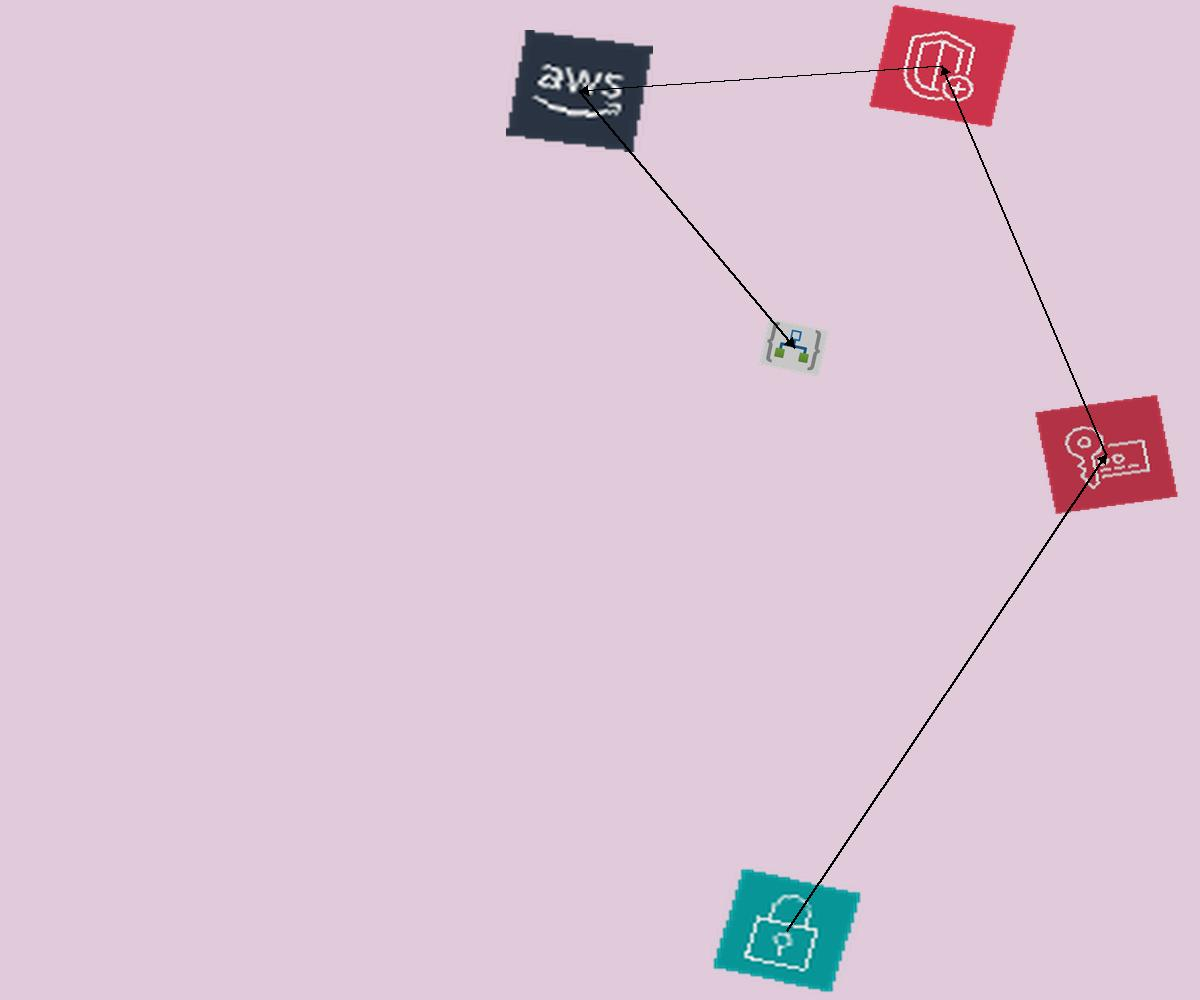AWS-Cloud-logo: (506, 30, 653, 152)
AWS-Key-Management-Service: (1034, 394, 1179, 515)
AWS-Private-subnet: (711, 867, 863, 994)
AWS-Shield: (868, 4, 1017, 128)
Azure_integration-204-Logic-Apps: (759, 318, 829, 377)
